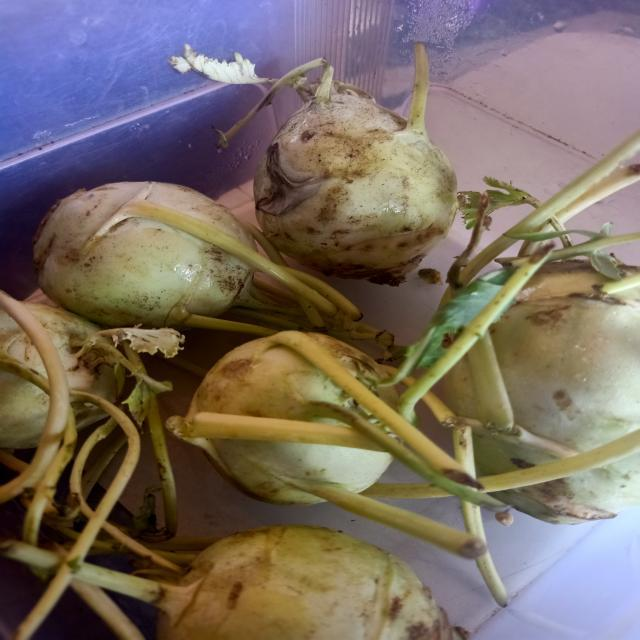Turnip: (254, 42, 458, 285), (157, 526, 464, 640), (33, 181, 263, 328), (490, 261, 640, 452), (188, 336, 377, 426), (185, 438, 393, 505), (496, 455, 640, 525), (21, 303, 117, 402), (306, 333, 385, 388), (0, 371, 48, 449), (474, 432, 559, 476), (0, 311, 45, 377), (444, 360, 480, 418), (69, 401, 106, 430)
